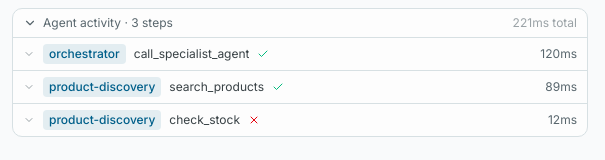
Test case: AgentTimeline › collapses to hide step rows on click
Click the button "Agent activity · 3 steps 221ms total". click: (87, 22)
box: [13, 9, 587, 37]
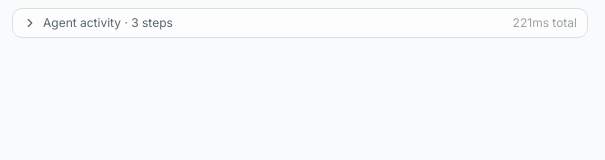
Expected: the button "search_products" is gone
